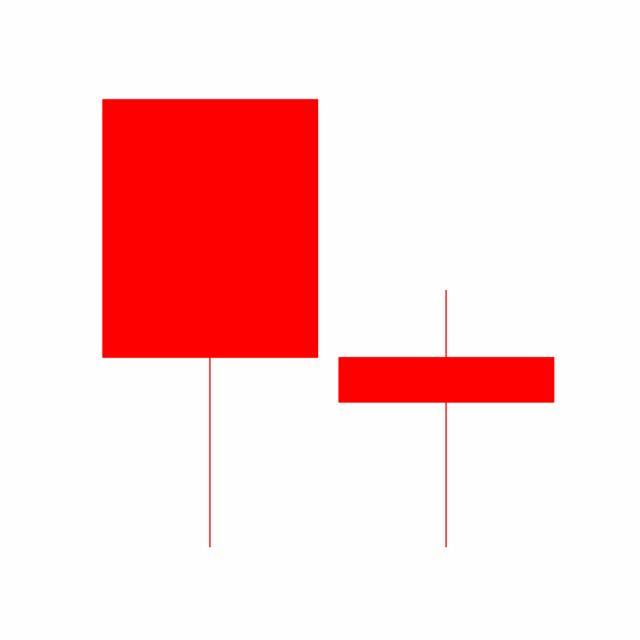Spinning Top: (328, 286, 566, 551)
